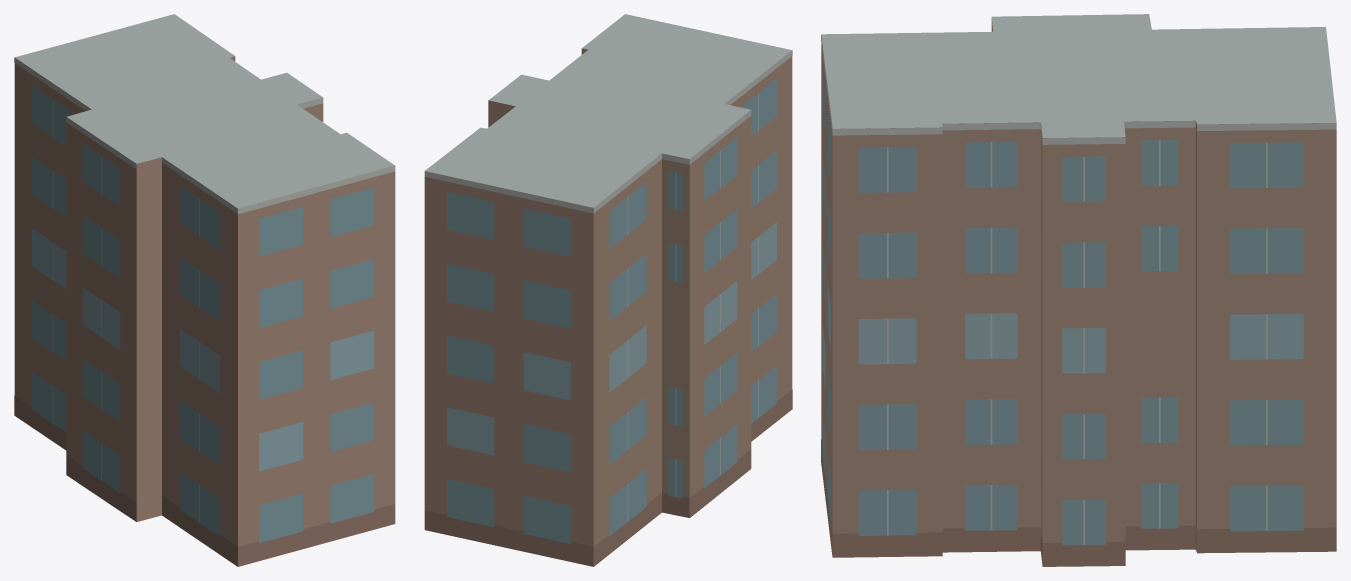
File: survey-upis-33047118.glb
The picture shows the model from 3 angles, left to right: view 1: azimuth 30°, elevation 25°; view 2: azimuth 150°, elevation 25°; view 3: azimuth 270°, elevation 25°; orthographic projection. The views are drawn at different scales.
Parts seen in each view (by area): view 1: survey-upis-33047118.tmp; view 2: survey-upis-33047118.tmp; view 3: survey-upis-33047118.tmp.
Part boxes in pixels (bbox=[...]): survey-upis-33047118.tmp: bbox=[14, 14, 395, 566]; survey-upis-33047118.tmp: bbox=[424, 14, 792, 566]; survey-upis-33047118.tmp: bbox=[821, 14, 1336, 566].
Bounding box in the file's own units: 9.59 × 15.44 × 16.83.
